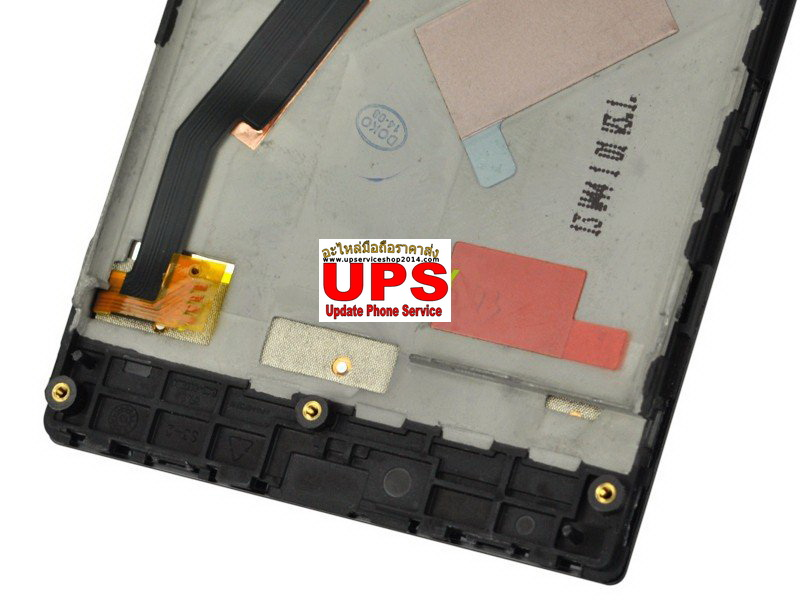phone: (37, 1, 800, 589)
